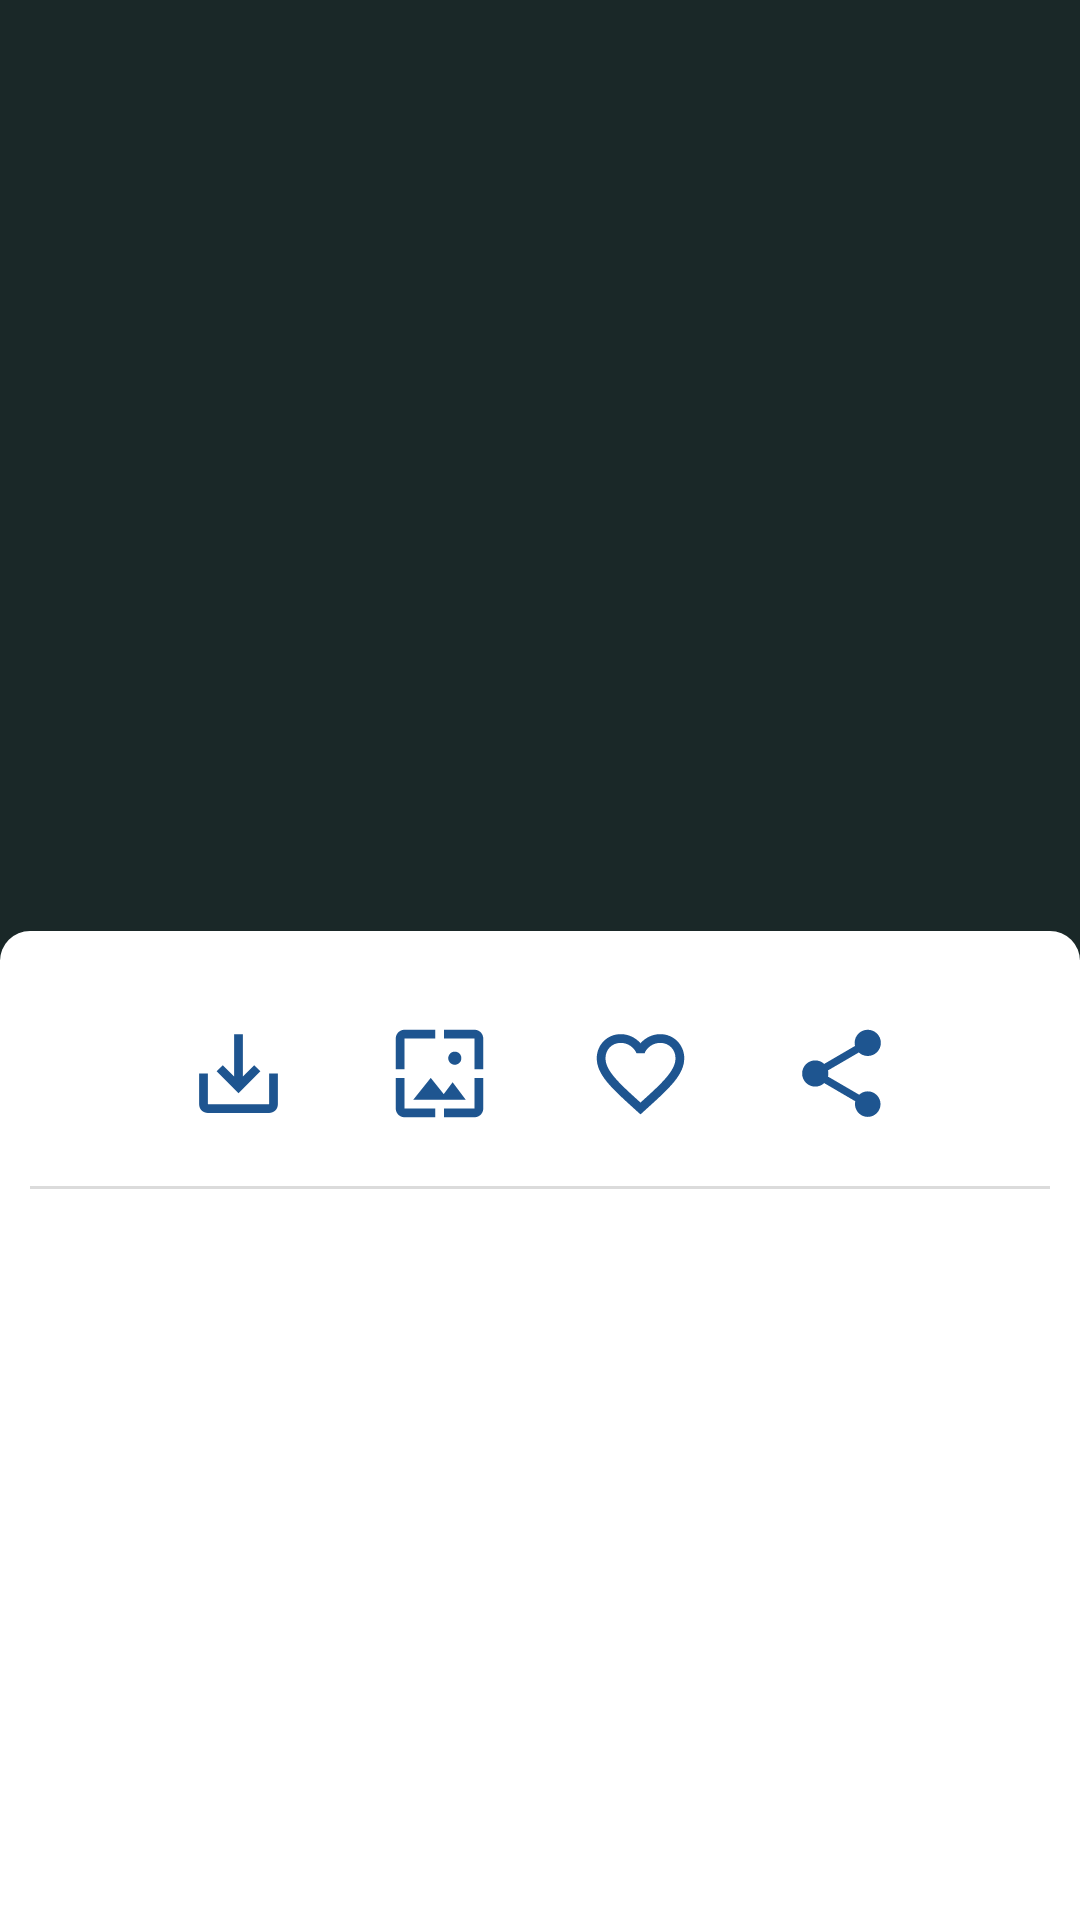

Locate icon controls on the screen. Image size 1080*1920, boxes as (x1, y1, x2, y2).
favorite border: (596, 1034, 685, 1115)
save: (199, 1034, 278, 1113)
share: (802, 1029, 881, 1117)
